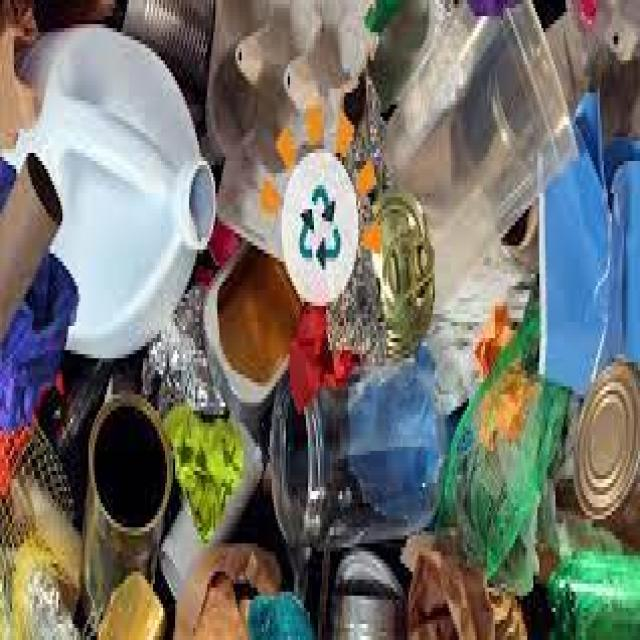metal: (68, 386, 202, 640), (370, 201, 457, 358), (561, 386, 640, 531)
plastic: (4, 16, 221, 342), (278, 362, 459, 556)
